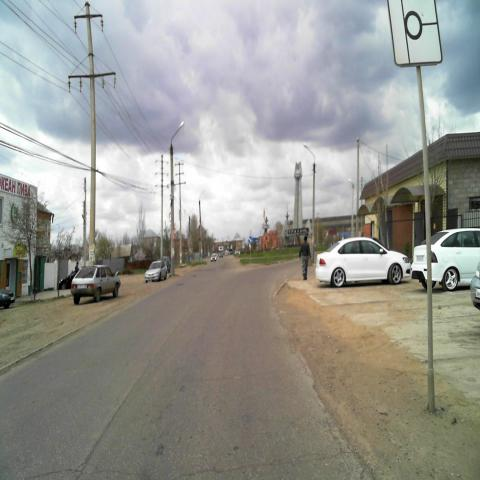8_13_1: (386, 0, 444, 66)
